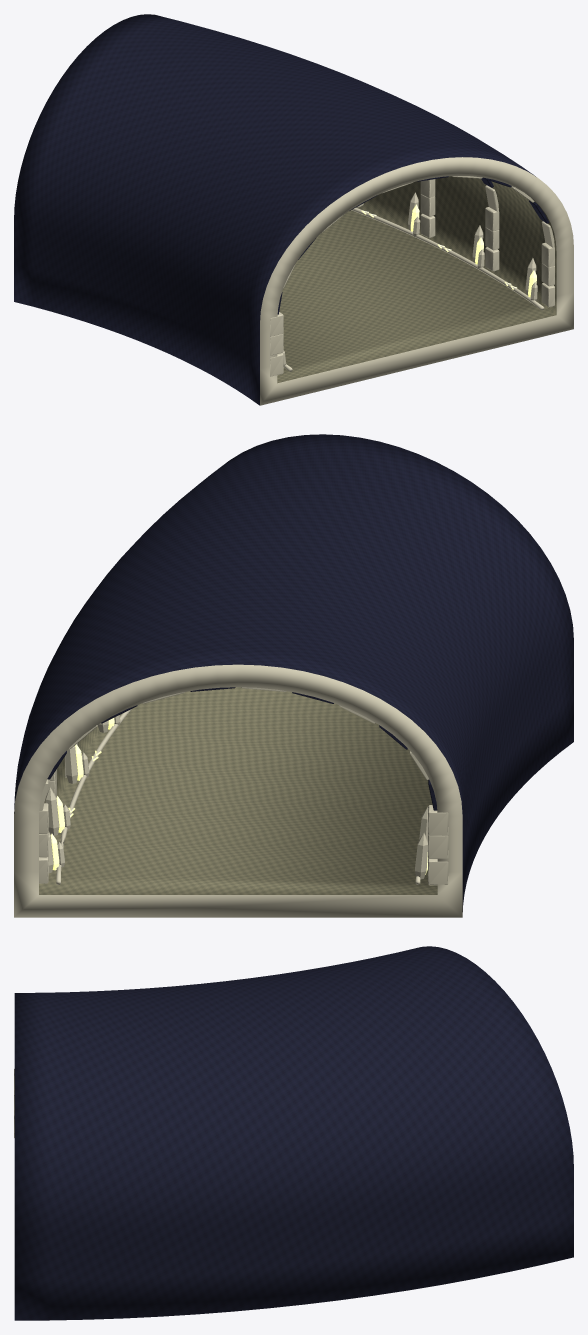
The model's file is curve_left_30_lod1.glb.
3 views of the same model, one above another, from view 1: azimuth 30°, elevation 25°; view 2: azimuth 150°, elevation 25°; view 3: azimuth 270°, elevation 25° (orthographic). The views are drawn at different scales.
Visible parts, largest first — view 1: TunnelGeometry.001; view 2: TunnelGeometry.001; view 3: TunnelGeometry.001.
Boxes of the visible parts, x1,y1,x2,y2 form: TunnelGeometry.001: (14, 14, 573, 405); TunnelGeometry.001: (14, 434, 573, 917); TunnelGeometry.001: (14, 946, 573, 1320).
Size of the model in its own units: 19.1 by 9.52 by 21.85.
4 materials, 2 textured.
